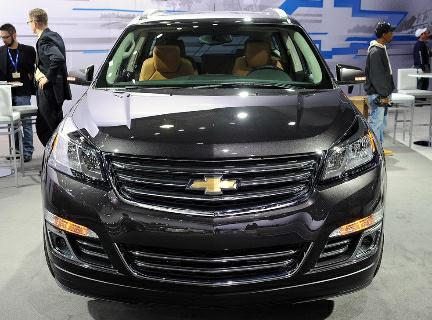雪佛兰-Traverse: (34, 8, 391, 308)
